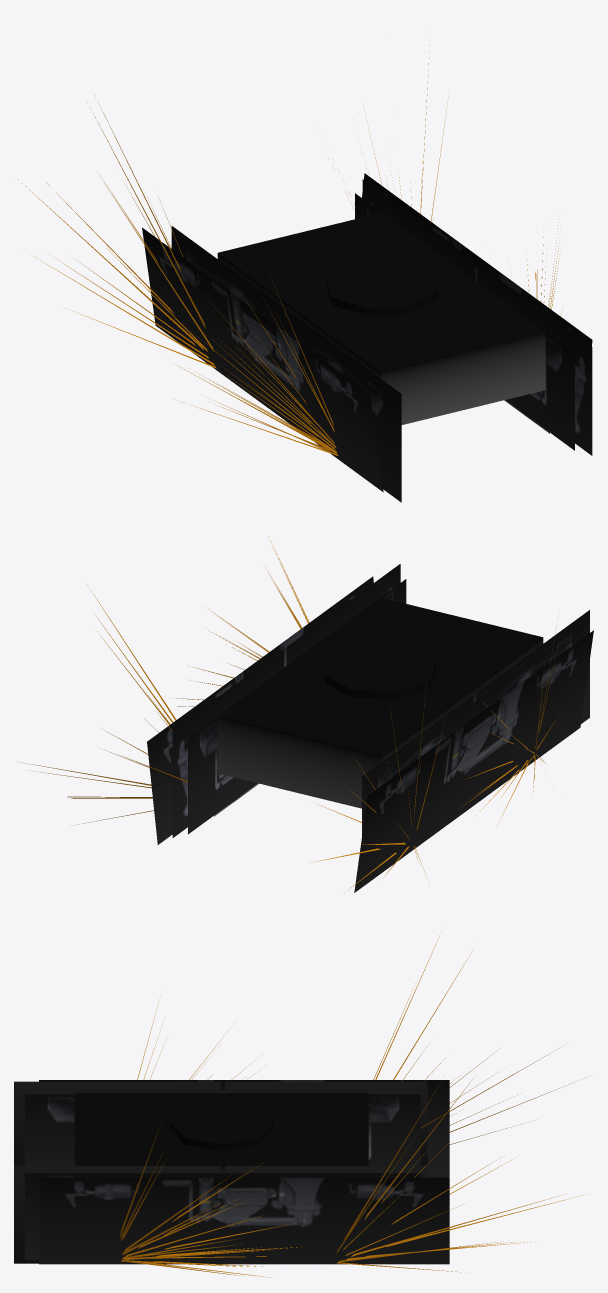
The model's file is JR2000_TRACK_LOW.glb.
3 renders of one model, top to bottom at view 1: azimuth 30°, elevation 25°; view 2: azimuth 150°, elevation 25°; view 3: azimuth 270°, elevation 25°, orthographic. The views are drawn at different scales.
Visible parts, largest first — view 1: trackbase, Fire0_R_0, Fire1_R_1; view 2: trackbase, Fire1_L_0, Fire1_R_1, Fire0_R_0; view 3: trackbase, Fire0_L_0, Fire1_L_1, Fire0_L_1, Fire1_R_0.
Part boxes in pixels (x1,y1,x2,y2): trackbase: [142, 173, 592, 502]; Fire0_R_0: [170, 276, 337, 455]; Fire1_R_1: [18, 106, 216, 368]; trackbase: [147, 564, 593, 892]; Fire1_L_0: [20, 595, 187, 823]; Fire1_R_1: [313, 683, 426, 890]; Fire0_R_0: [462, 701, 546, 816]; trackbase: [14, 1080, 449, 1264]; Fire0_L_0: [120, 1130, 302, 1277]; Fire1_L_1: [336, 1083, 579, 1272]; Fire0_L_1: [120, 1129, 301, 1277]; Fire1_R_0: [373, 941, 556, 1144].
Size of the model in its own units: 10.41 by 6.14 by 14.48.
14 materials, 5 textured.
